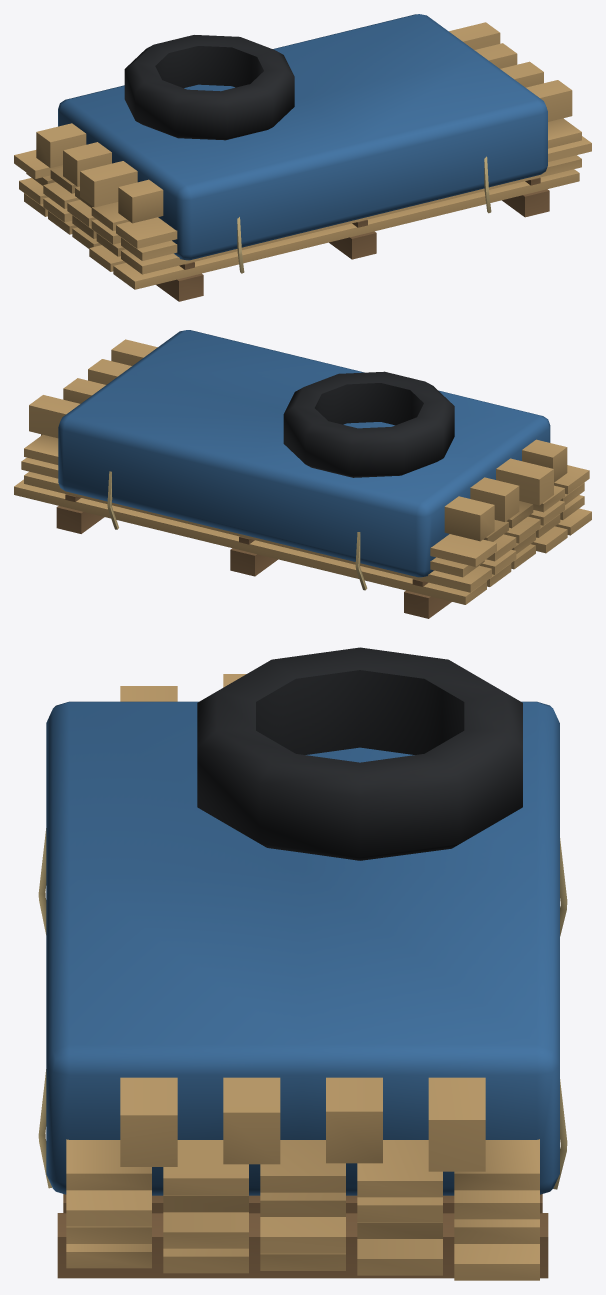
The model's file is timberStack.far.glb.
The picture shows the model from 3 angles, top to bottom: view 1: azimuth 30°, elevation 25°; view 2: azimuth 150°, elevation 25°; view 3: azimuth 270°, elevation 25°; orthographic projection. The views are drawn at different scales.
Parts seen in each view (by area): view 1: timberStack_far; view 2: timberStack_far; view 3: timberStack_far.
Part boxes in pixels (x1,y1,x2,y2): timberStack_far: (14,14,591,301); timberStack_far: (14,330,591,618); timberStack_far: (38,647,567,1280).
Size of the model in its own units: 1.86 by 0.598 by 0.9265.
